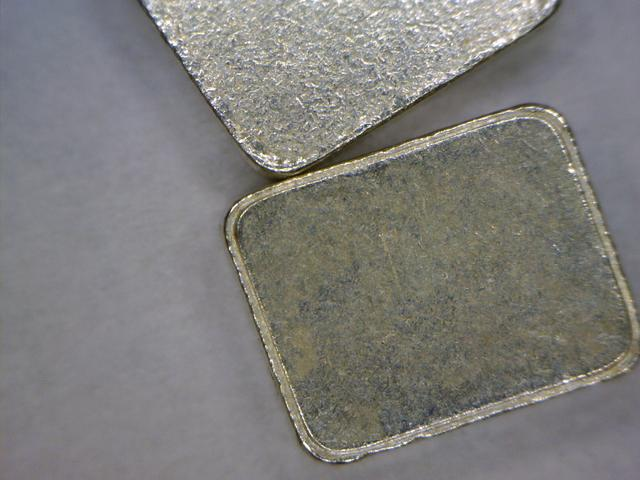nok: (195, 97, 640, 468)
